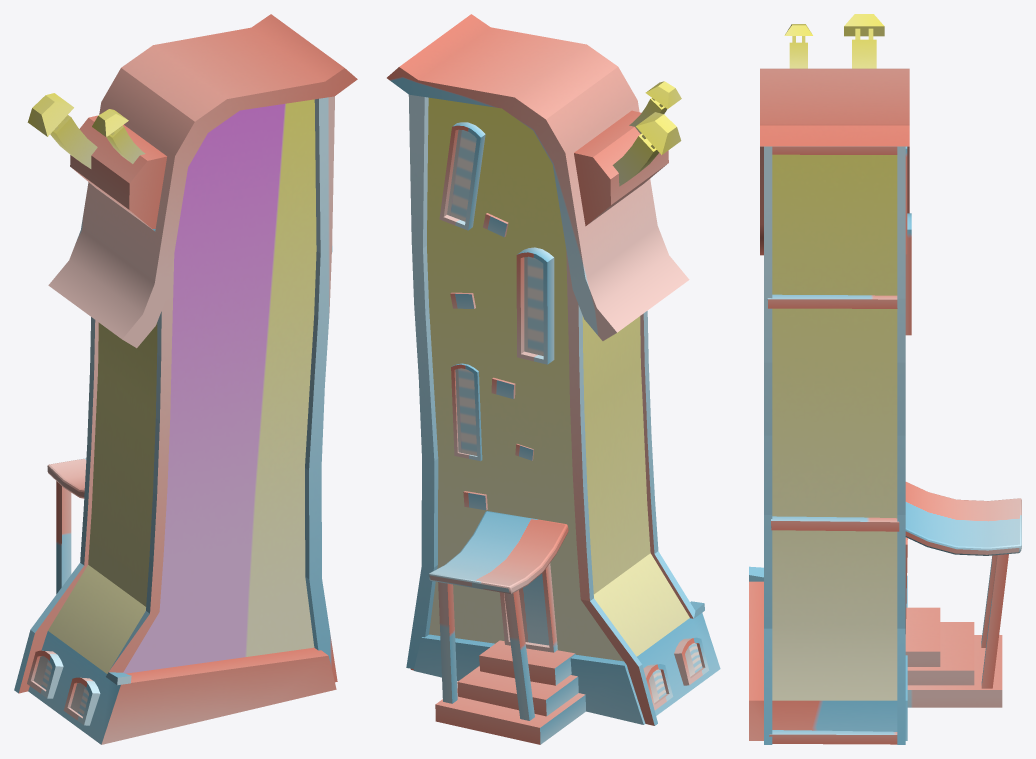
The model's file is HouseD_v1.fbx.
3 views of the same model, side by side, from view 1: azimuth 30°, elevation 25°; view 2: azimuth 150°, elevation 25°; view 3: azimuth 270°, elevation 25° (orthographic). The views are drawn at different scales.
Visible parts, largest first — view 1: HouseD_v1; view 2: HouseD_v1; view 3: HouseD_v1.
Part boxes in pixels (x1,y1,x2,y2): HouseD_v1: (14,14,357,744); HouseD_v1: (387,14,720,744); HouseD_v1: (749,14,1021,744).
Size of the model in its own units: 598 by 1294 by 513.
